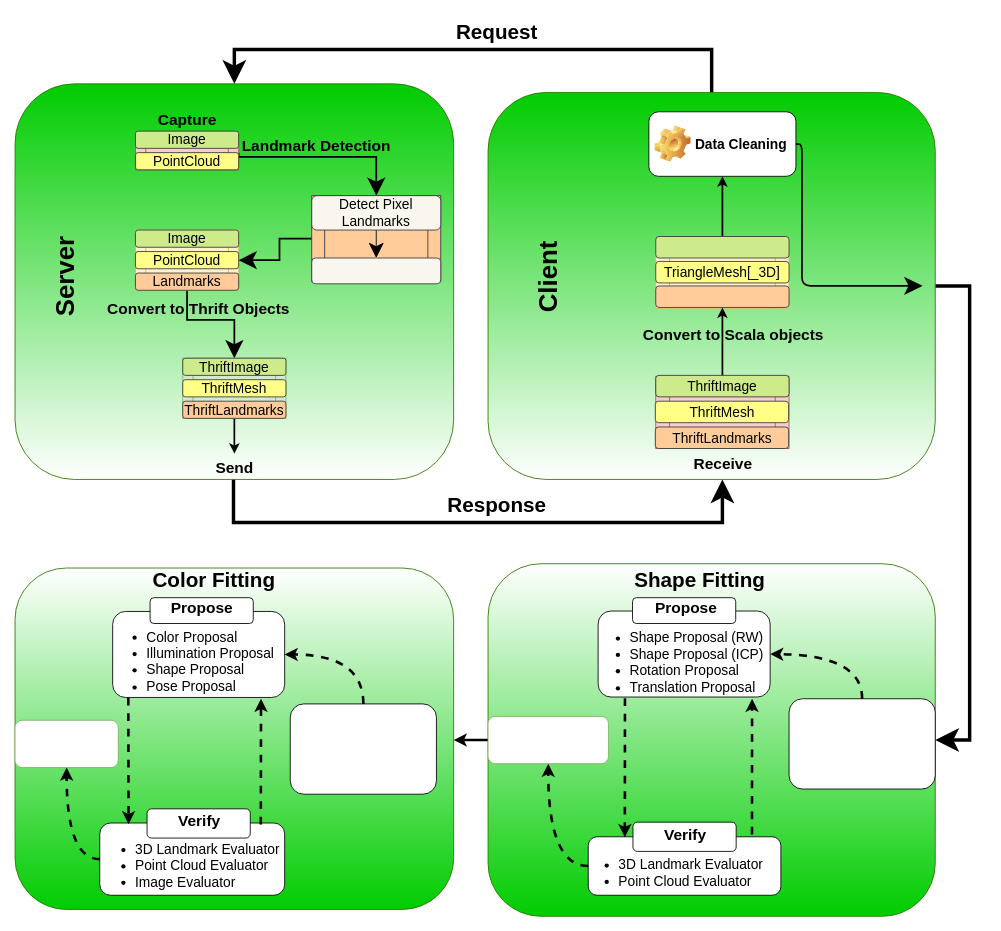
Some shapes in this 1001 by 931 pixel diagram are drawn without their labels. The box of each missing label's shape, as (x1, y1, x2, y2) in pixels:
3DMM Instance: (14, 719, 118, 768)
Best 3DMM Shape Instance: (487, 716, 608, 764)
Color Image Point Cloud 3D Landmarks: (788, 698, 935, 789)
Color Image Point Cloud 3D Landmarks Best 3DMM Shape Instance: (289, 703, 436, 794)
De-project to Points: (311, 257, 441, 284)
Landmark[_3D]: (655, 285, 789, 307)
PixelImage[RGB]: (655, 236, 789, 258)
